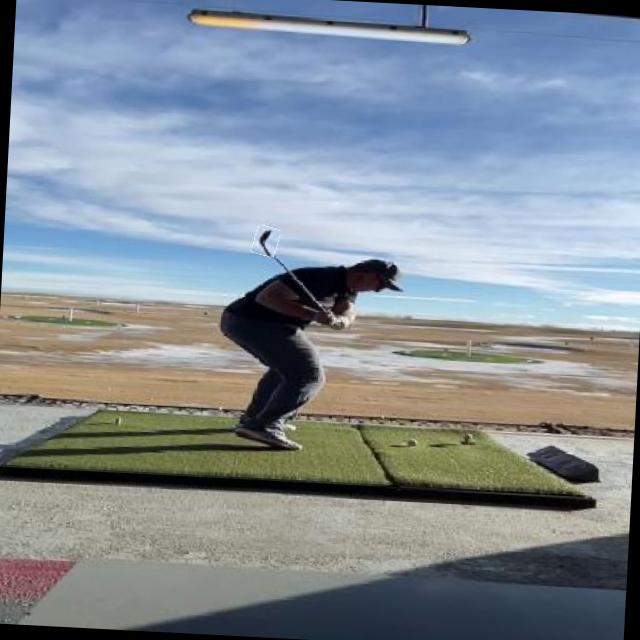club head: (252, 226, 280, 256)
